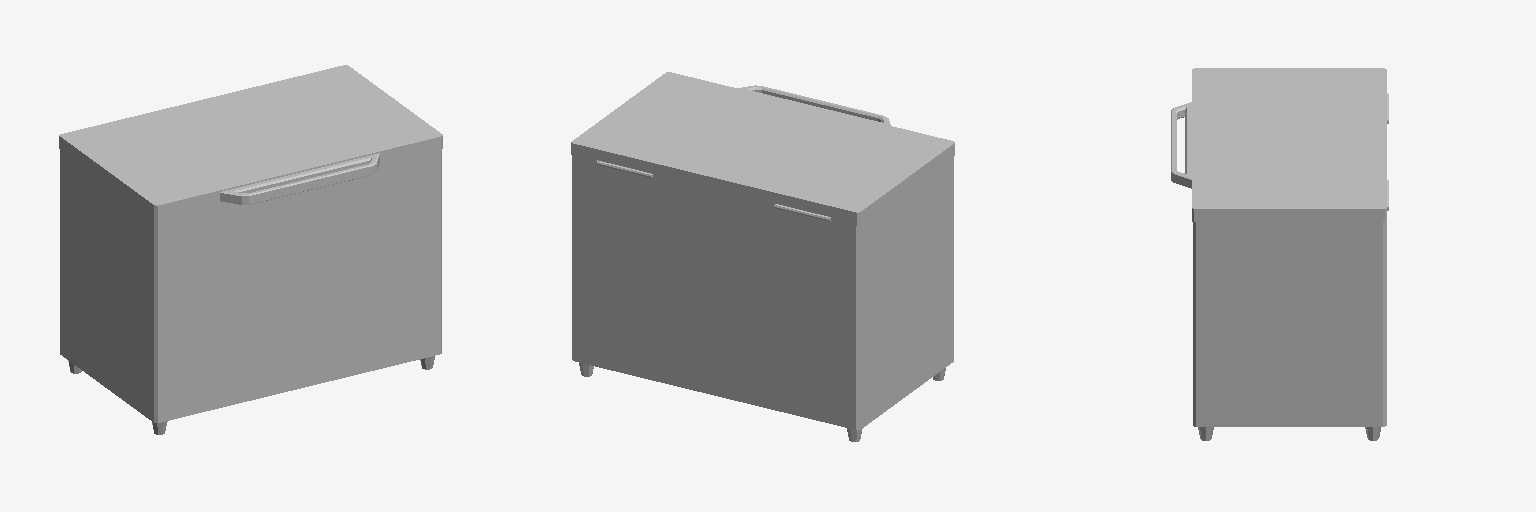
The model's file is appliance_cooler_box.obj.
3 renders of one model, left to right at view 1: azimuth 30°, elevation 25°; view 2: azimuth 150°, elevation 25°; view 3: azimuth 270°, elevation 25°, orthographic.
Parts seen in each view (by area): view 1: appliance_cooler_box.001_Cube.255, appliance_cooler_box_lid_Cube.256; view 2: appliance_cooler_box.001_Cube.255, appliance_cooler_box_lid_Cube.256; view 3: appliance_cooler_box.001_Cube.255, appliance_cooler_box_lid_Cube.256.
Part boxes in pixels (bbox=[...]): appliance_cooler_box.001_Cube.255: bbox=[60, 150, 441, 434]; appliance_cooler_box_lid_Cube.256: bbox=[59, 65, 442, 218]; appliance_cooler_box.001_Cube.255: bbox=[572, 156, 953, 441]; appliance_cooler_box_lid_Cube.256: bbox=[571, 72, 954, 225]; appliance_cooler_box.001_Cube.255: bbox=[1193, 93, 1388, 440]; appliance_cooler_box_lid_Cube.256: bbox=[1171, 68, 1386, 221].
Bounding box in the file's own units: 21.23 × 16.46 × 13.92.